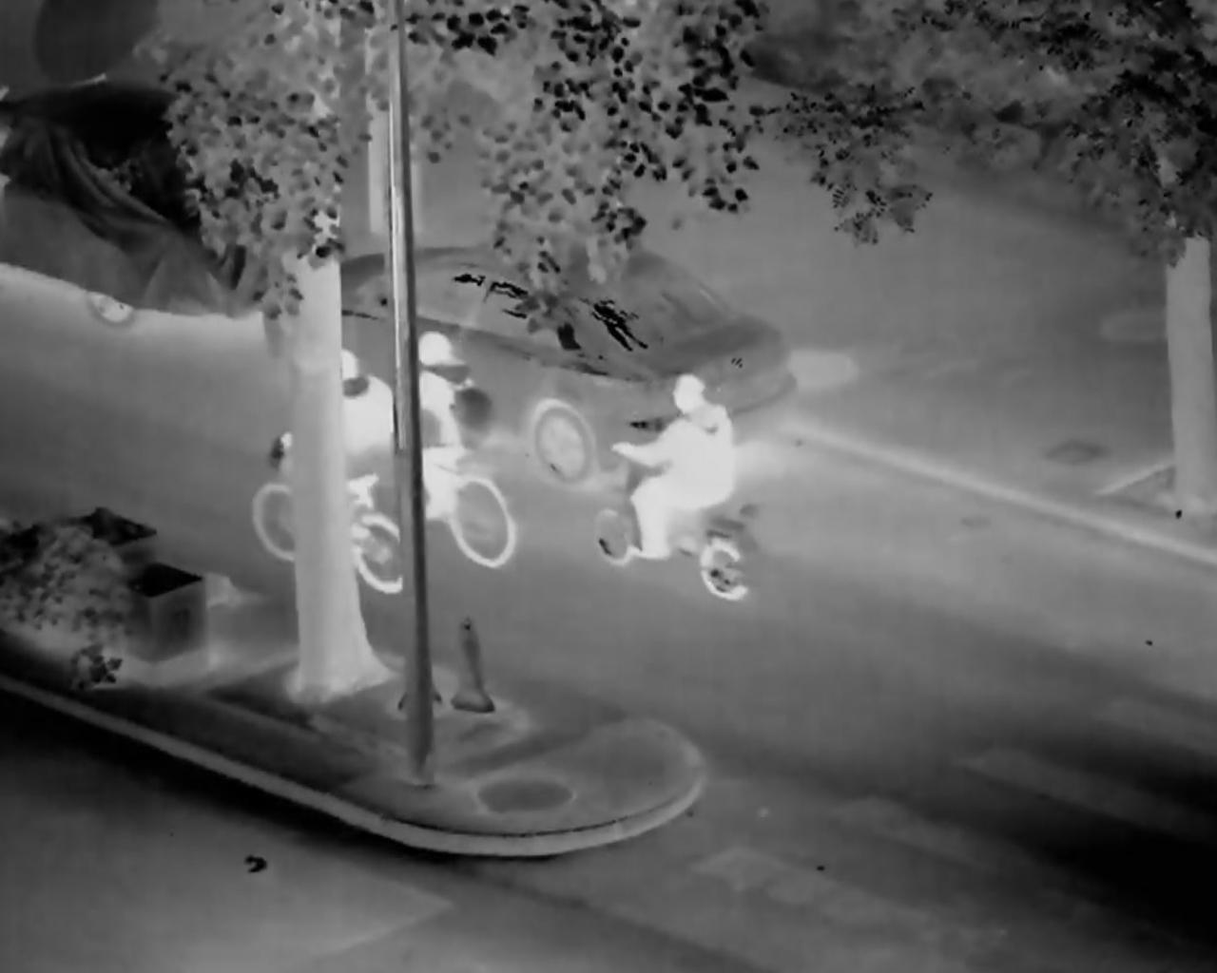person: (278, 351, 396, 549), (608, 374, 733, 560), (396, 333, 491, 521)
